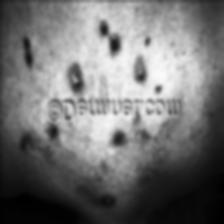Non-Cancerous Skin Condition: (100, 22, 118, 52), (22, 36, 32, 64), (100, 195, 113, 207), (72, 78, 82, 92), (47, 124, 57, 138), (20, 140, 26, 149)
